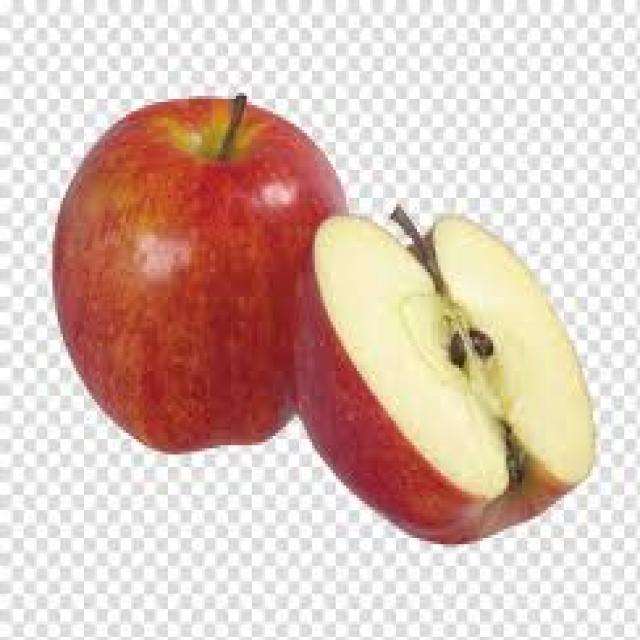Apple: (310, 200, 599, 546), (51, 89, 307, 450)
